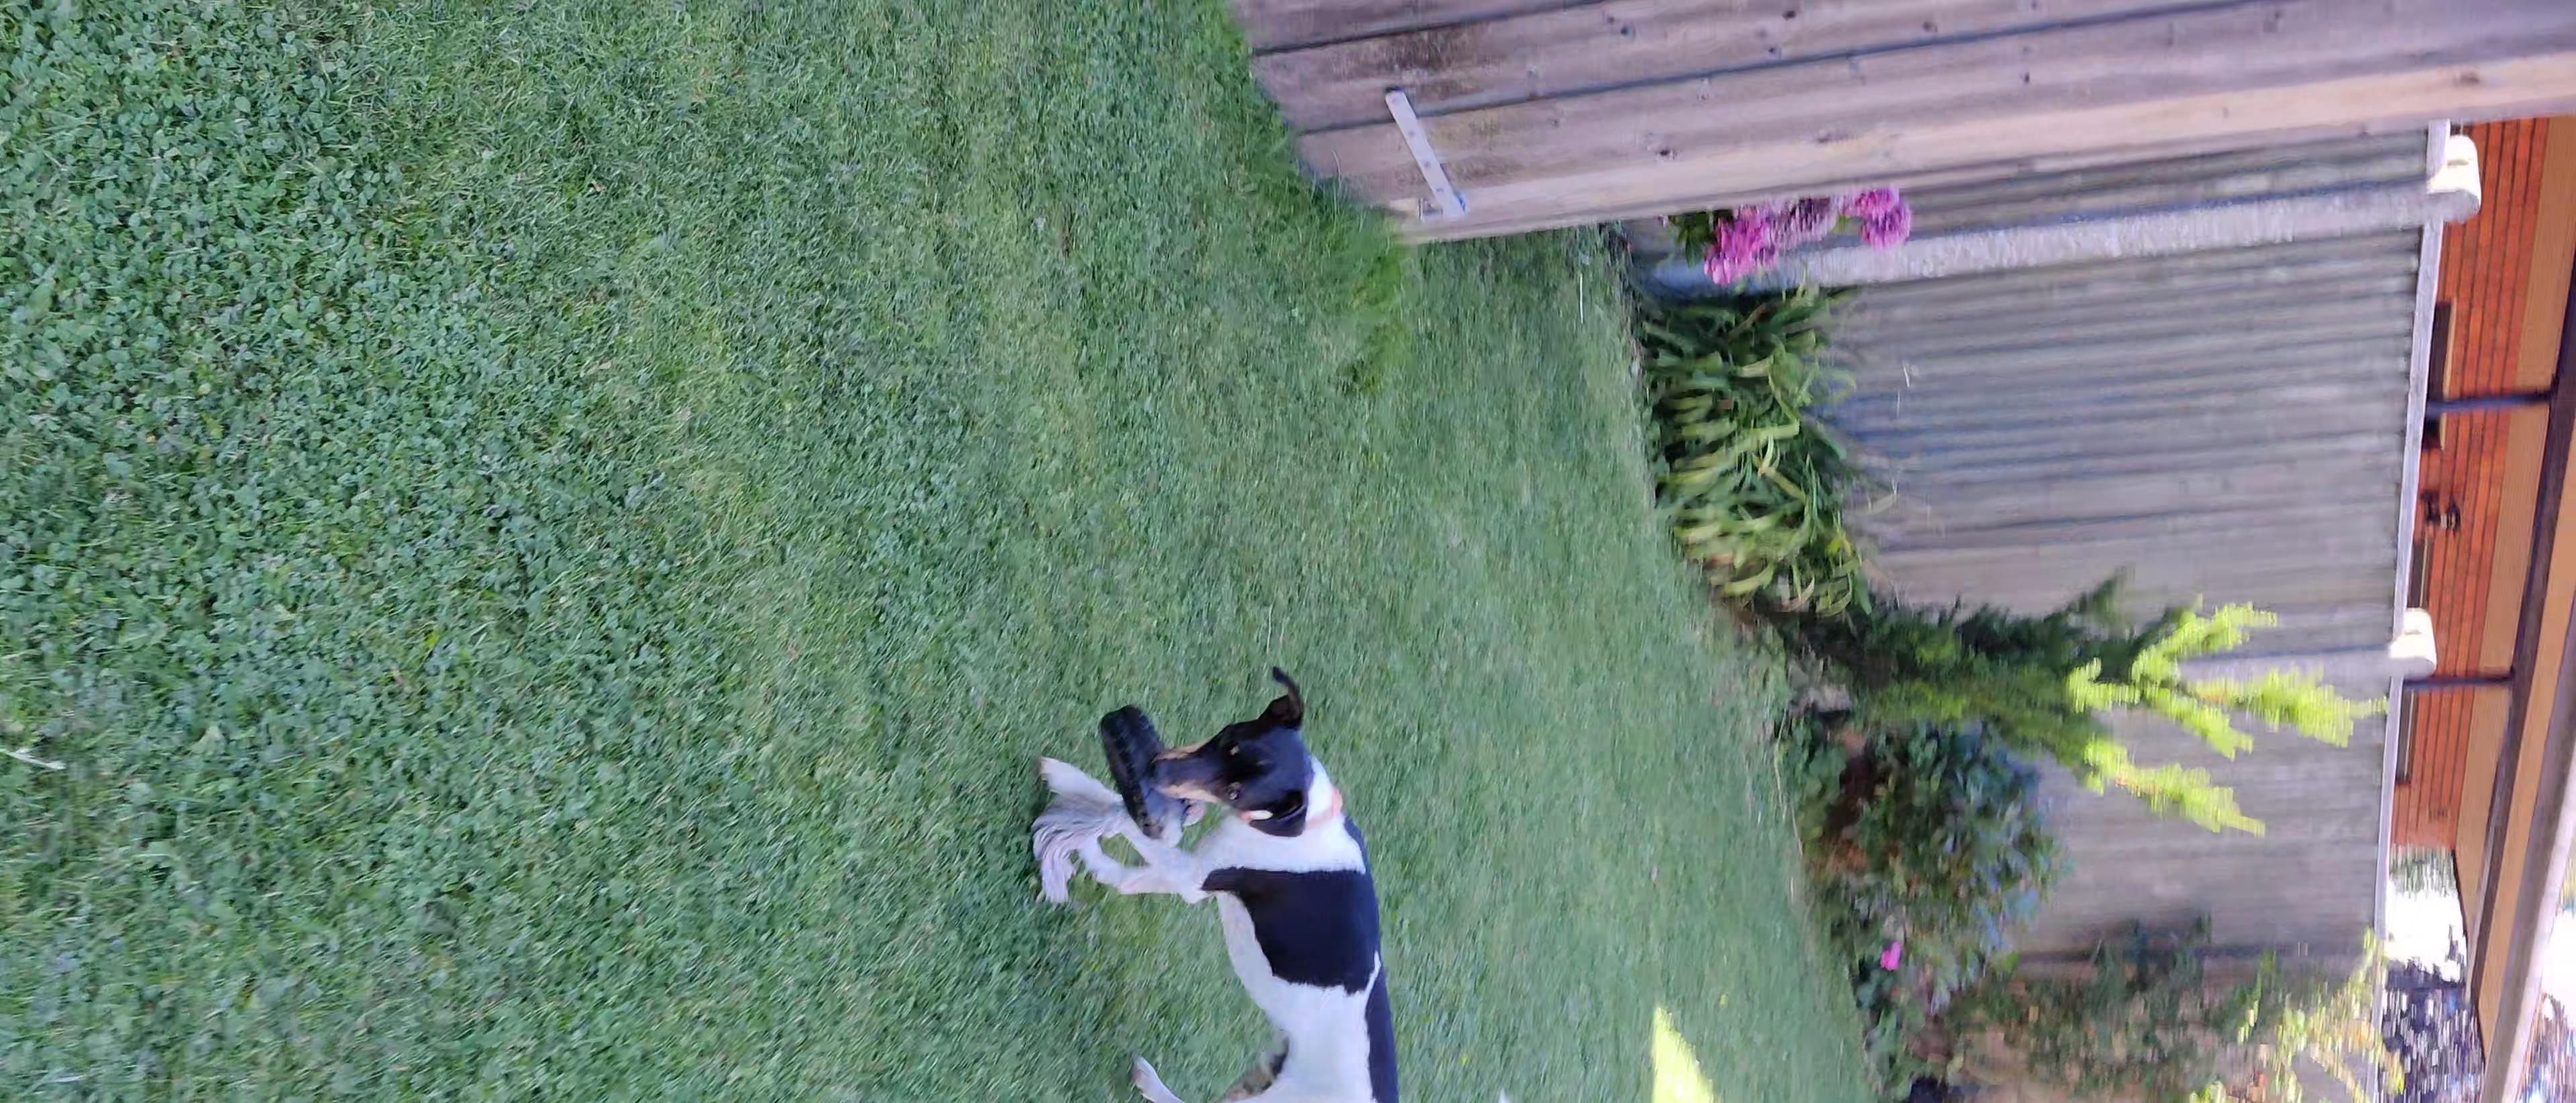Dog: (1025, 661, 1434, 1103)
